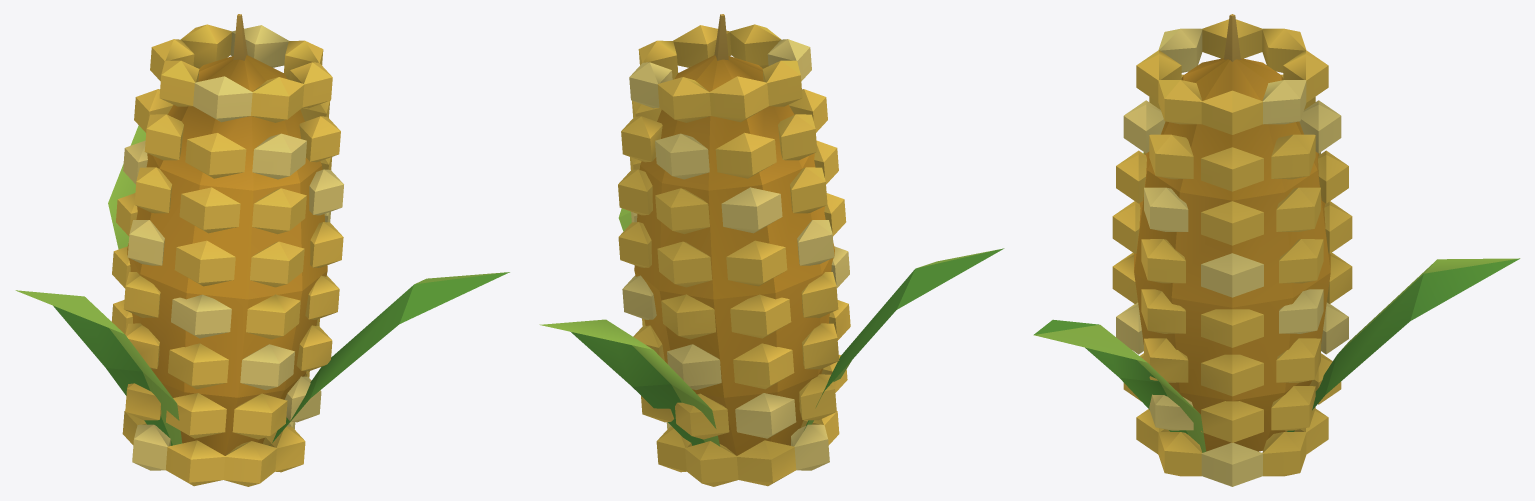
The model's file is Corn_produce.glb.
3 views of the same model, side by side, from view 1: azimuth 30°, elevation 25°; view 2: azimuth 150°, elevation 25°; view 3: azimuth 270°, elevation 25° (orthographic). The views are drawn at different scales.
Visible parts, largest first — view 1: Corn_produce; view 2: Corn_produce; view 3: Corn_produce.
Boxes of the visible parts, x1=… form: Corn_produce: x1=15, y1=14, x2=509, y2=486; Corn_produce: x1=539, y1=14, x2=1004, y2=486; Corn_produce: x1=1033, y1=14, x2=1520, y2=486.
Bounding box in the file's own units: 0.9999 × 1.01 × 0.9654.
